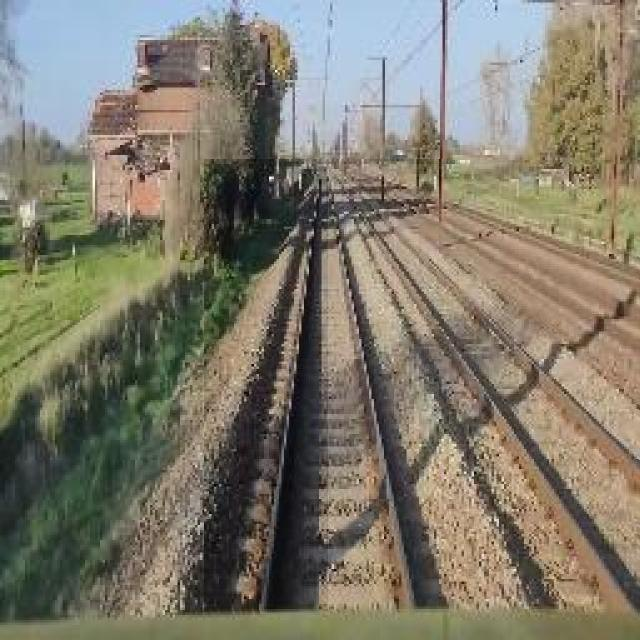rail: (330, 166, 640, 612), (206, 160, 449, 612)
